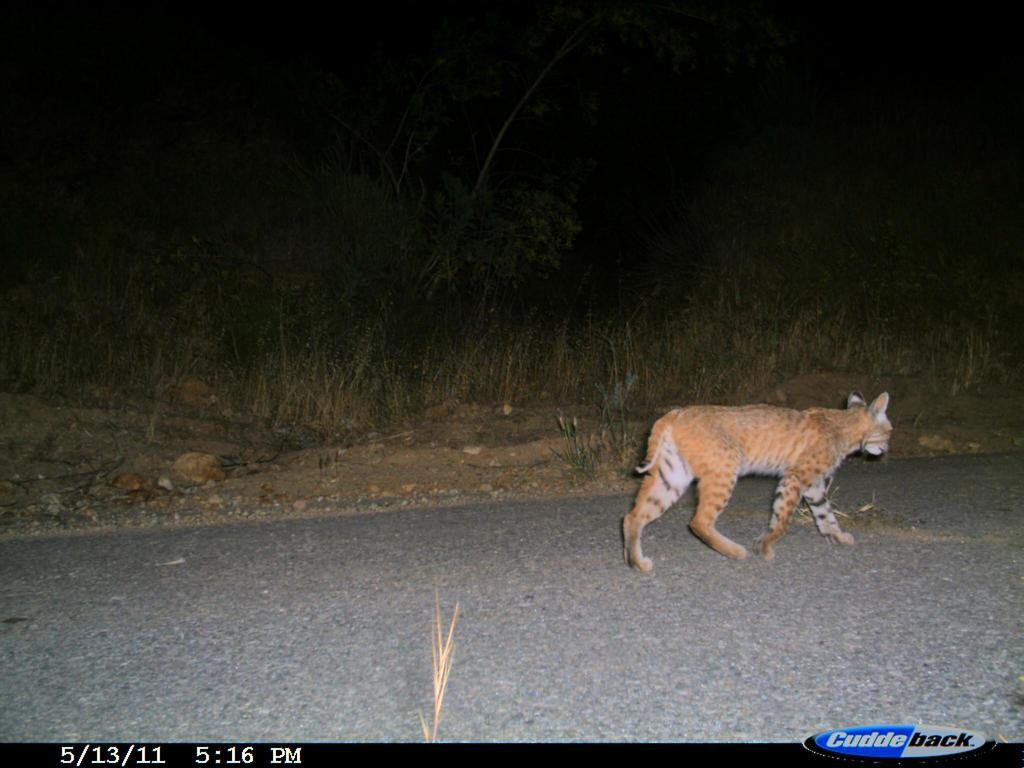bobcat: (612, 382, 900, 575)
